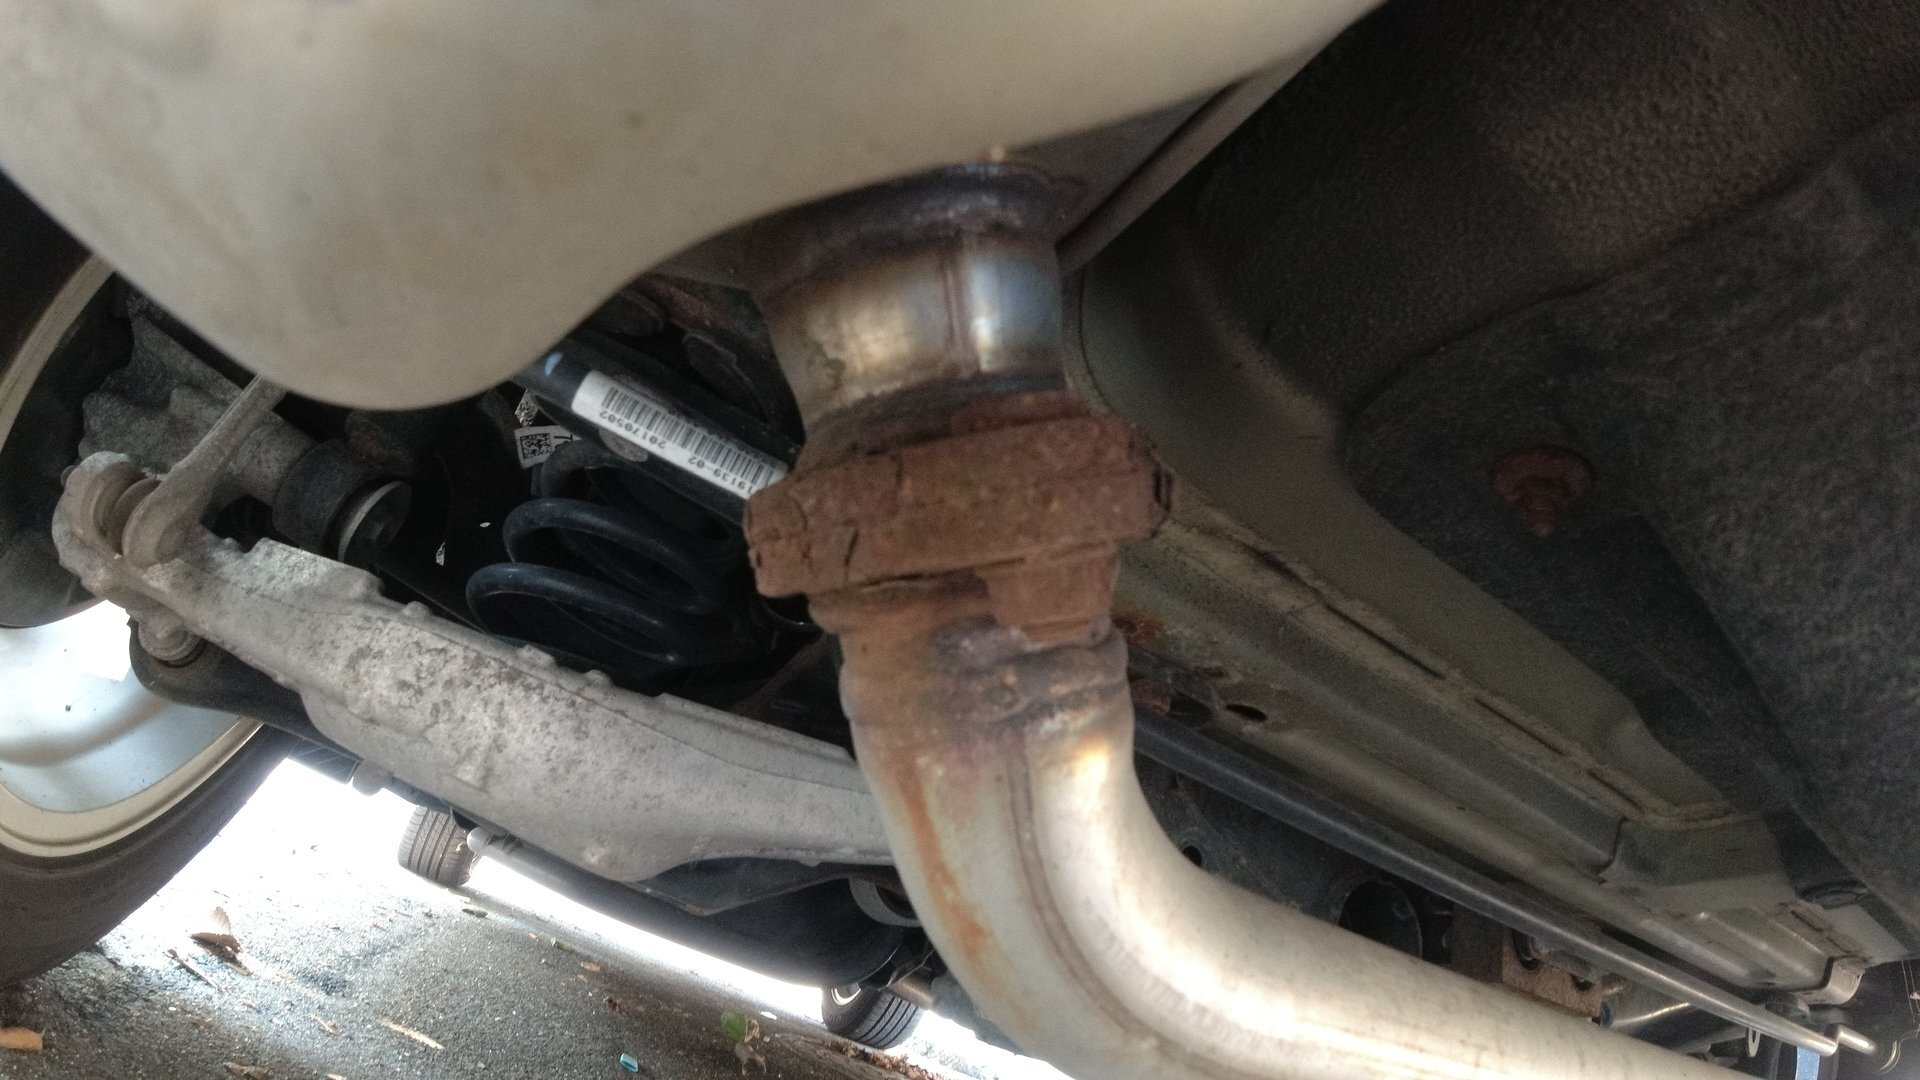Low: (804, 636, 1033, 1054)
Severe: (720, 419, 1185, 651)
